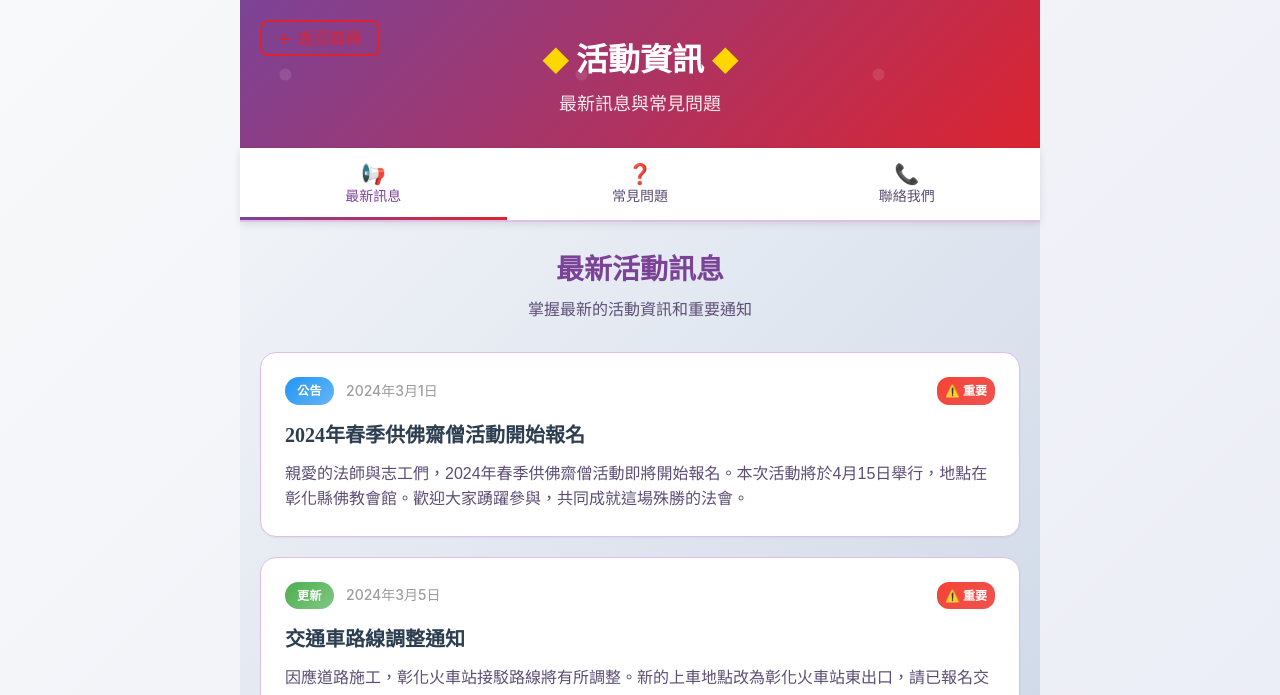
InfoPage › 標籤切換功能 › 應該能夠切換到聯絡我們標籤
The width and height of the screenshot is (1280, 695).
Click the tab "📞 聯絡我們" at [907, 184], box [773, 148, 1040, 220]
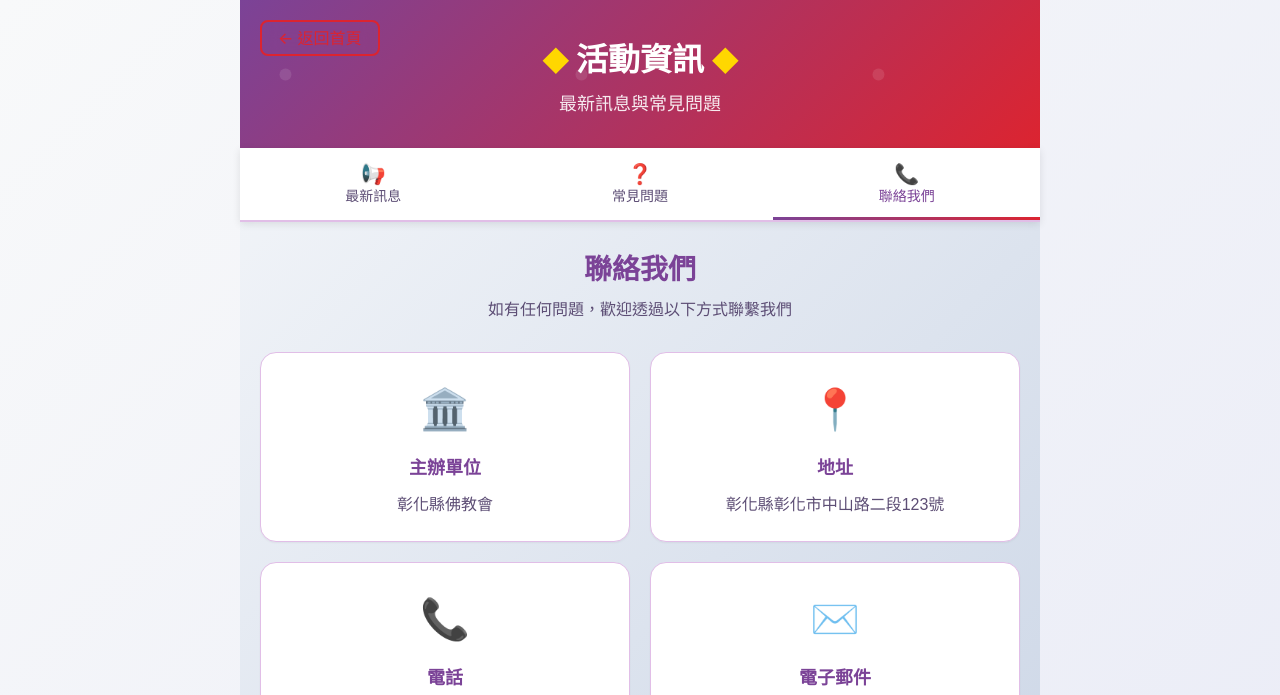
Expected: the text "聯絡我們" is shown 2 times, [879, 190, 935, 204]; [584, 254, 696, 285]
Now the text "如有任何問題，歡迎透過以下方式聯繫我們" is shown, box [488, 301, 792, 318]
